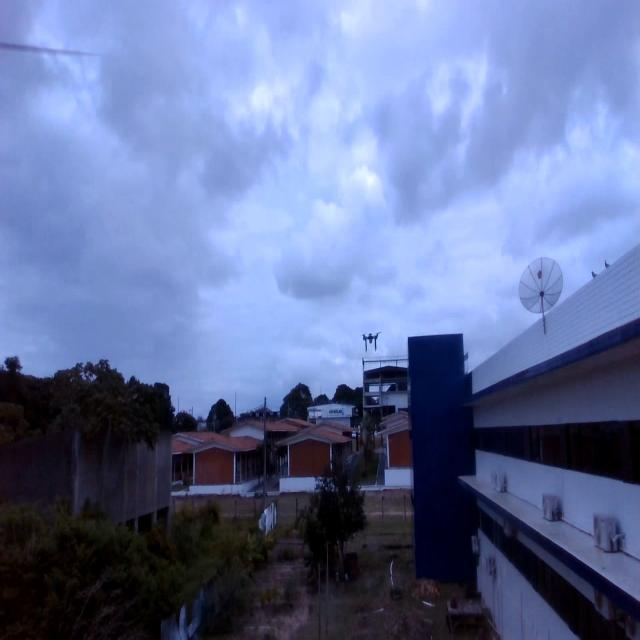-uav-: (358, 323, 388, 361)
